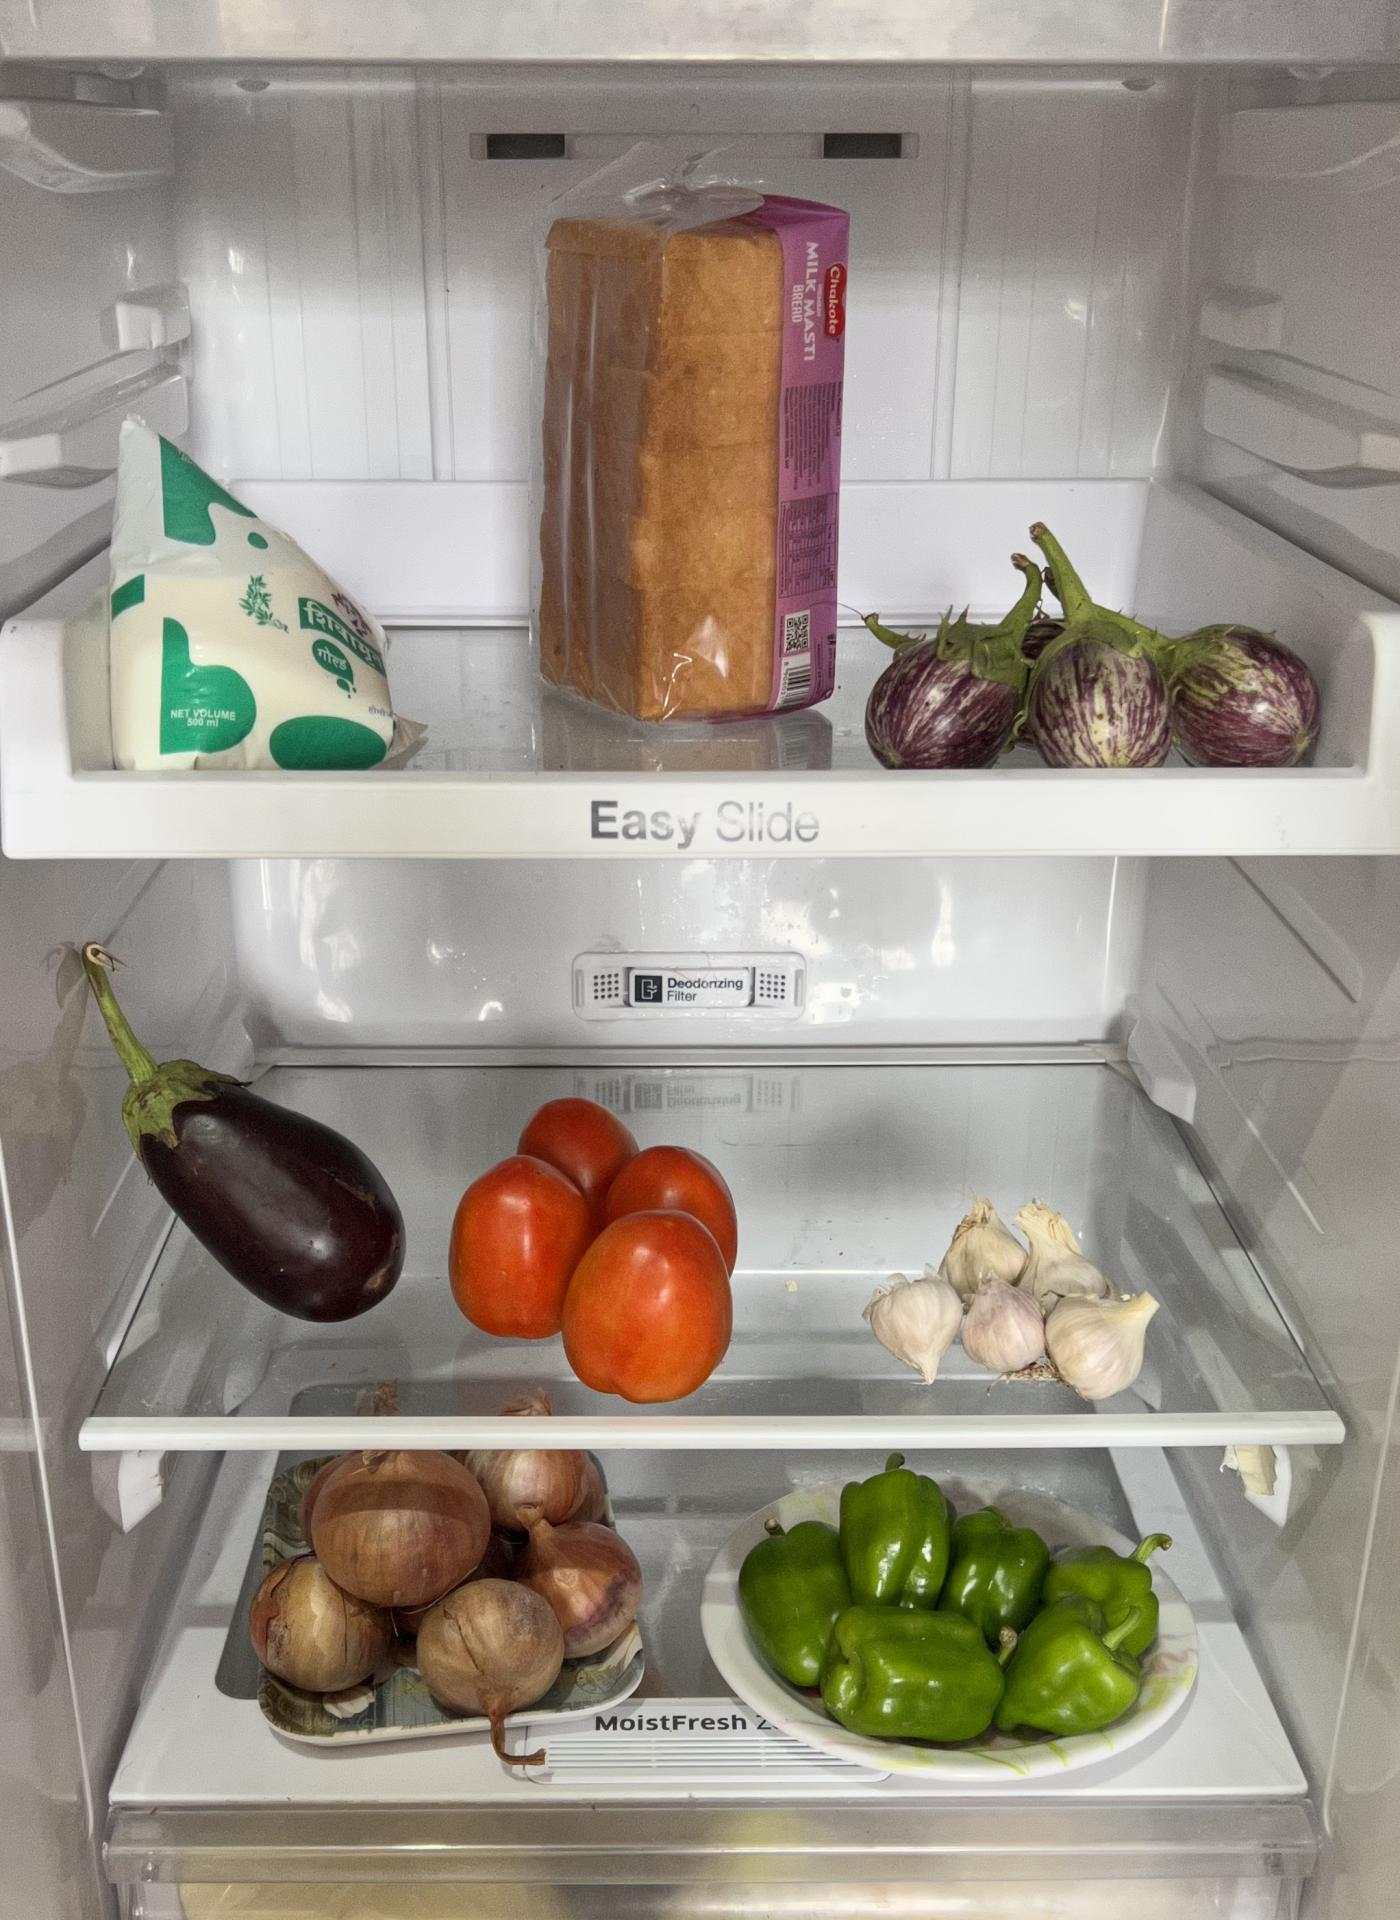bread: (523, 158, 850, 729)
capsicum: (737, 1459, 1164, 1743)
garlic: (860, 1193, 1160, 1401)
milk: (109, 419, 413, 769)
onion: (243, 1452, 641, 1722)
tomato: (453, 1090, 741, 1401)
